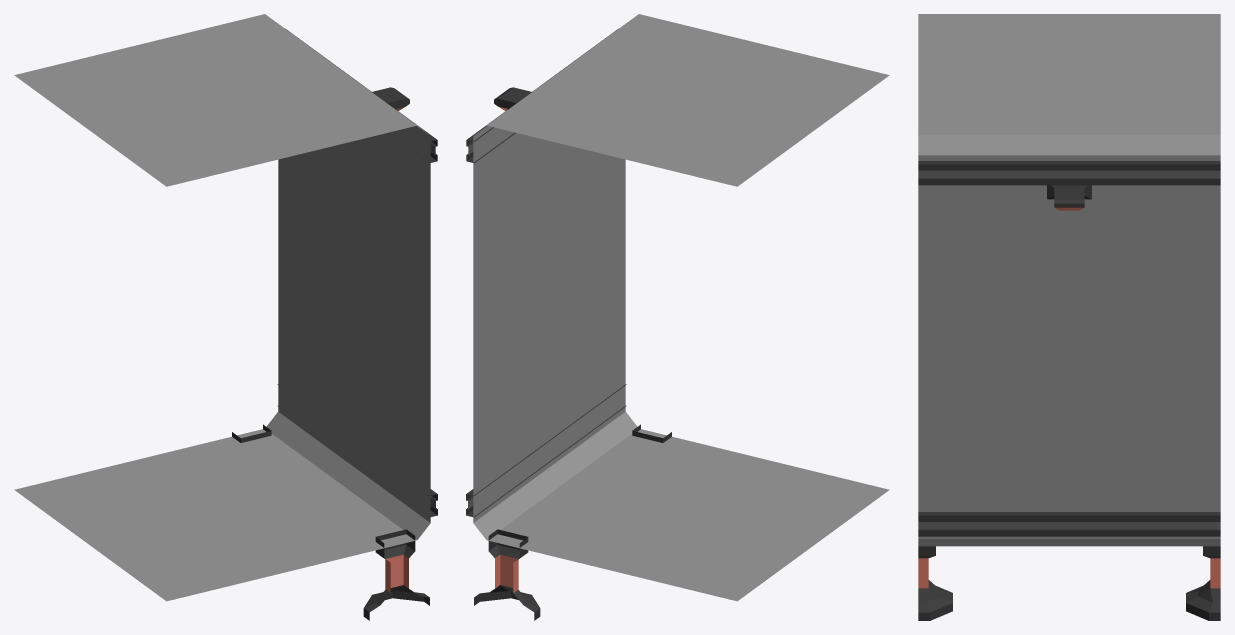
File: Building_Wall.fbx
The picture shows the model from 3 angles, left to right: view 1: azimuth 30°, elevation 25°; view 2: azimuth 150°, elevation 25°; view 3: azimuth 270°, elevation 25°; orthographic projection.
Parts seen in each view (by area): view 1: Building_Wall; view 2: Building_Wall; view 3: Building_Wall.
Part boxes in pixels (x1,y1,x2,y2): Building_Wall: [14, 14, 437, 620]; Building_Wall: [466, 14, 889, 620]; Building_Wall: [918, 14, 1220, 620].
Bounding box in the file's own units: 236 × 350 × 200.
